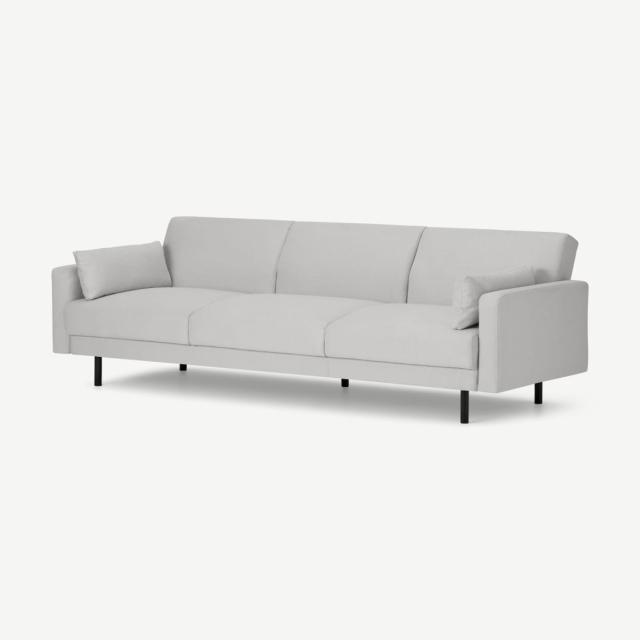back_cushion: (74, 217, 577, 329)
left_arm: (477, 281, 588, 403)
legs: (460, 391, 468, 423), (93, 356, 101, 386), (535, 382, 542, 404), (342, 379, 349, 388), (180, 364, 186, 371)
right_arm: (51, 264, 83, 353)
seat_cushion: (64, 287, 478, 370)
stallion-sofa: (0, 0, 639, 639)
